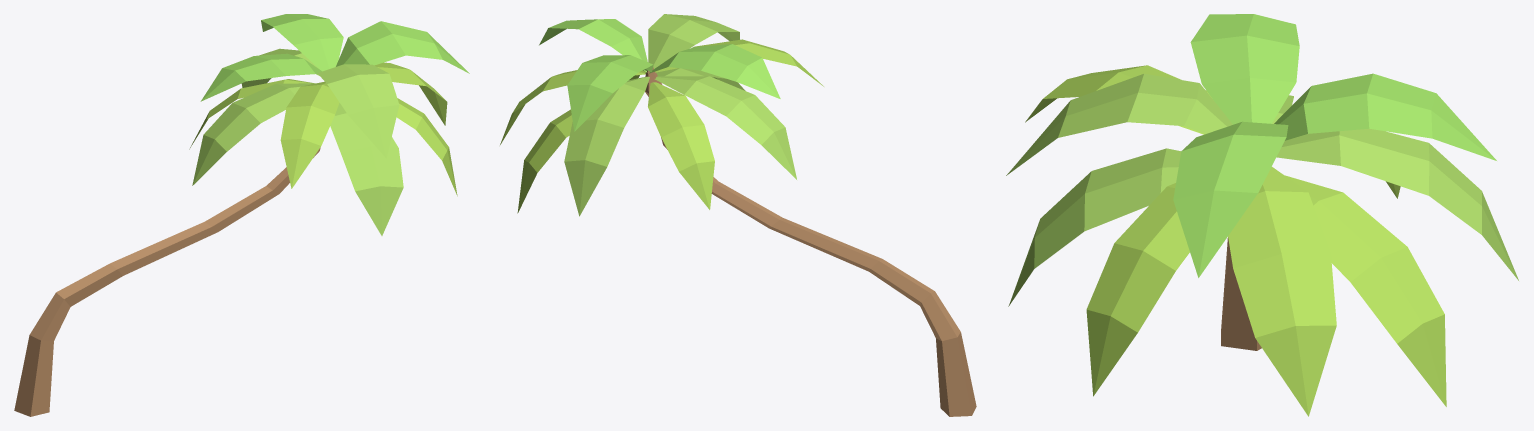
The model's file is Palm_Tree_OneSided_l_05_LOD.fbx.
3 renders of one model, left to right at view 1: azimuth 30°, elevation 25°; view 2: azimuth 150°, elevation 25°; view 3: azimuth 270°, elevation 25°, orthographic. The views are drawn at different scales.
Visible parts, largest first — view 1: Palm_Tree_OneSided_l_05_LOD0; view 2: Palm_Tree_OneSided_l_05_LOD0; view 3: Palm_Tree_OneSided_l_05_LOD0.
Part boxes in pixels (bbox=[...]): Palm_Tree_OneSided_l_05_LOD0: bbox=[14, 14, 469, 416]; Palm_Tree_OneSided_l_05_LOD0: bbox=[500, 14, 976, 416]; Palm_Tree_OneSided_l_05_LOD0: bbox=[1006, 14, 1518, 416].
Size of what is drawn, in the model's own units: 752 by 470 by 434.
